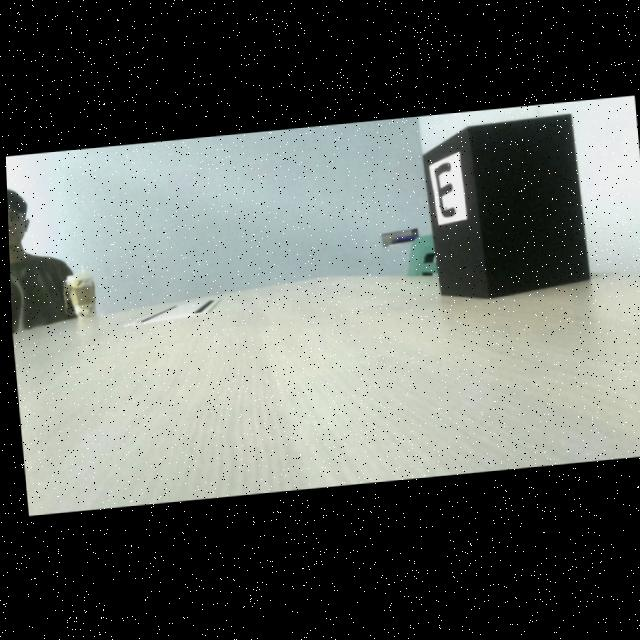E: (434, 167, 455, 222)
